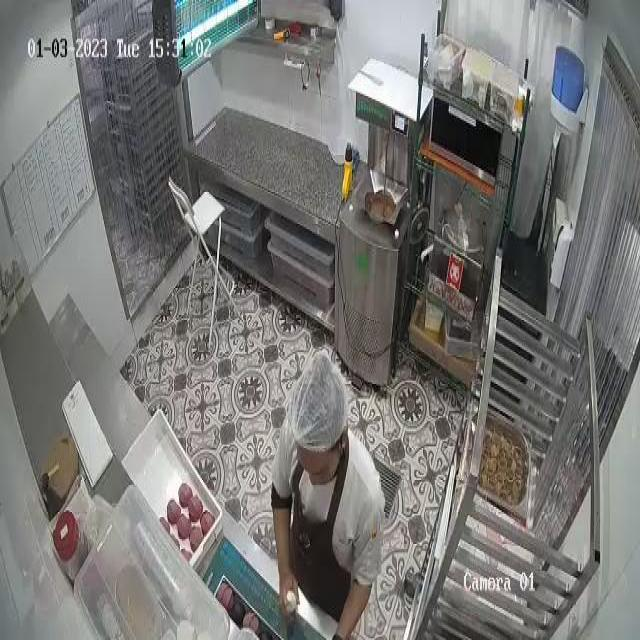hairnet: (289, 350, 346, 436)
